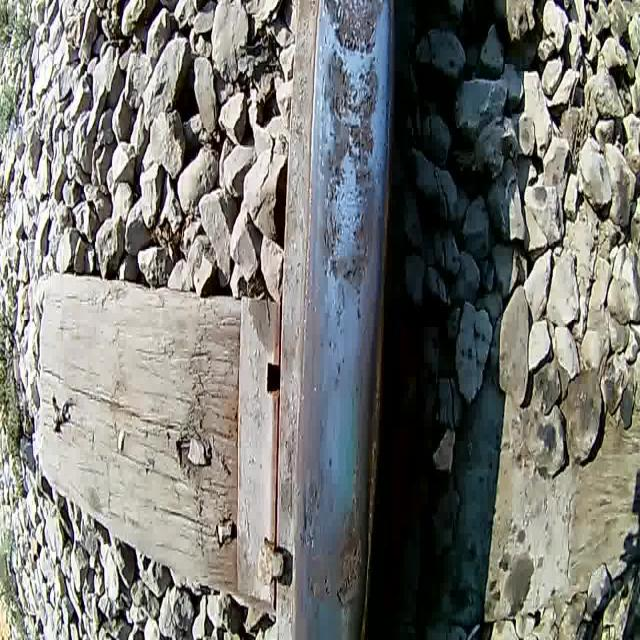Spallings: (322, 50, 378, 206), (319, 208, 371, 290), (326, 1, 384, 50), (334, 530, 364, 606), (298, 475, 320, 552), (305, 568, 334, 603)
Squats: (317, 46, 382, 325), (296, 478, 370, 616), (316, 0, 388, 59)
